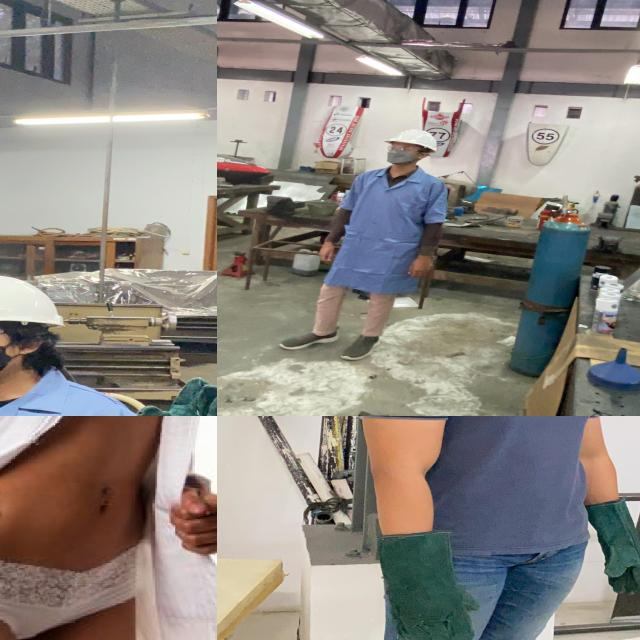face_mask: (384, 144, 420, 164)
glasses: (384, 144, 425, 155)
hand_glove: (363, 525, 492, 640), (575, 498, 640, 599), (129, 375, 217, 416)
hand_noglove: (165, 483, 217, 557), (403, 255, 437, 281), (312, 242, 338, 263)
head_helmet: (0, 273, 67, 329), (387, 127, 443, 152)
person: (358, 416, 640, 640), (0, 416, 217, 640), (265, 123, 459, 364), (0, 268, 217, 416)
shoes: (278, 322, 342, 350), (336, 330, 384, 363)
